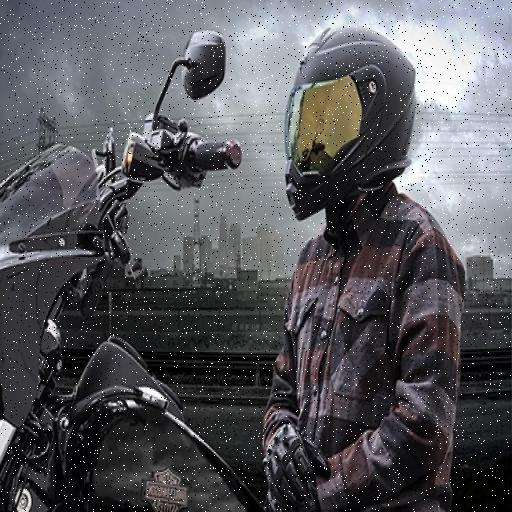Helmet: (285, 27, 415, 219)
Motor: (0, 32, 261, 511)
